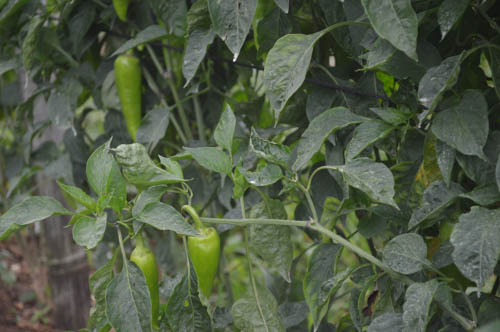ChiliPepper: (129, 246, 166, 330), (113, 56, 145, 142), (186, 229, 221, 299)
